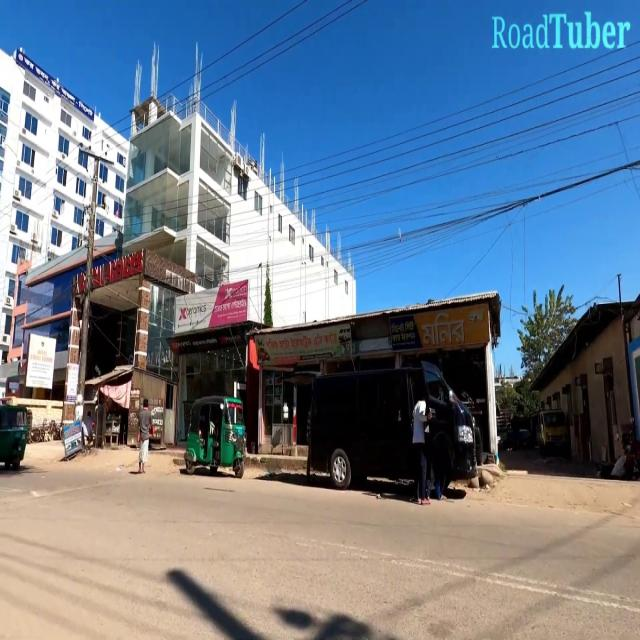black: (302, 360, 481, 490)
